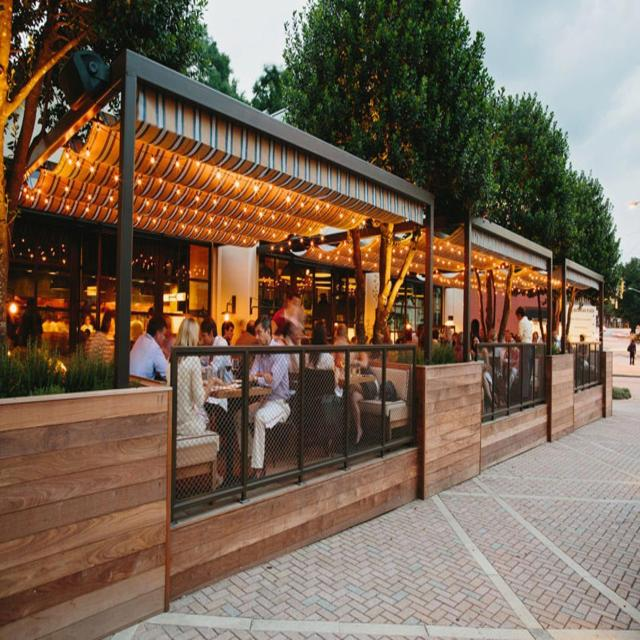person: (252, 317, 294, 495), (172, 316, 220, 446), (133, 308, 172, 386), (198, 312, 237, 388), (300, 320, 339, 380), (465, 323, 498, 392), (513, 306, 544, 353), (277, 287, 310, 321)
